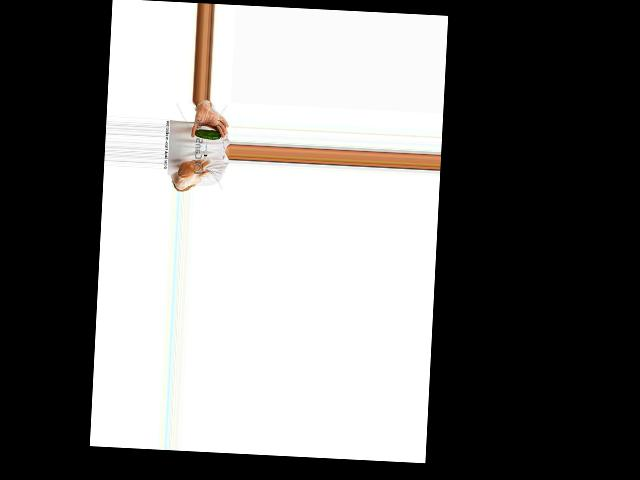cucumber: (194, 128, 221, 139)
